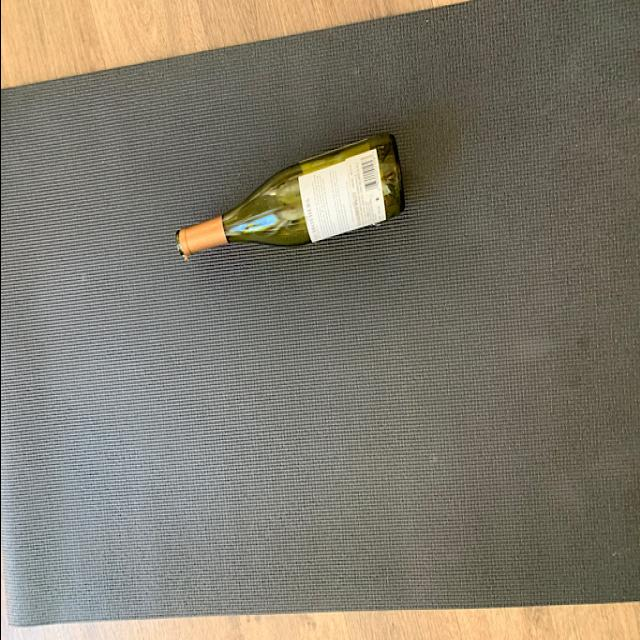Glass Bottle: (172, 128, 404, 268)
